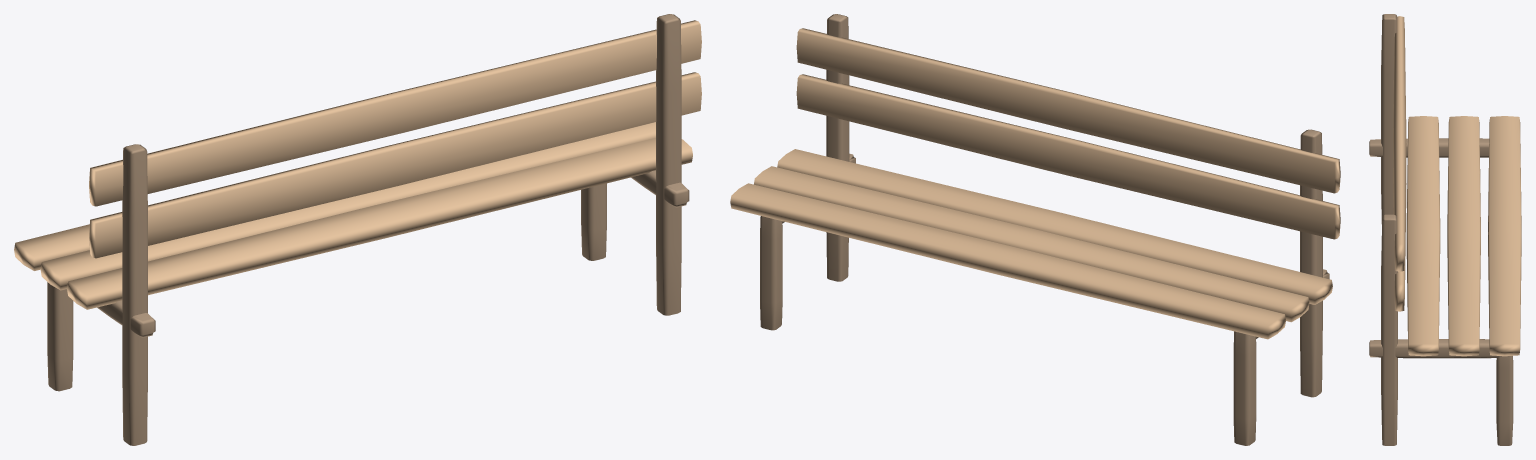
File: StruggleBench.glb
The picture shows the model from 3 angles, left to right: view 1: azimuth 30°, elevation 25°; view 2: azimuth 150°, elevation 25°; view 3: azimuth 270°, elevation 25°; orthographic projection. The views are drawn at different scales.
Parts seen in each view (by area): view 1: Back, Seat, Legs; view 2: Seat, Back, Legs; view 3: Seat, Legs, Back.
Part boxes in pixels (x1,y1,x2,y2): Back: (89, 20, 701, 258); Seat: (14, 122, 692, 309); Legs: (47, 14, 689, 445); Seat: (730, 149, 1332, 339); Back: (796, 28, 1340, 239); Legs: (760, 14, 1329, 445); Seat: (1406, 116, 1521, 356); Legs: (1369, 14, 1513, 445); Back: (1393, 16, 1406, 311).
Size of the model in its own units: 8 by 3.7 by 2.25.
